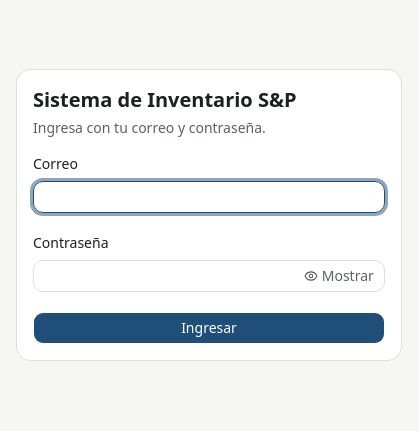
Iniciar sesión › CREDENCIALES_INVALIDAS muestra un único mensaje que no revela si el correo existe
The width and height of the screenshot is (419, 431).
Type "contadora.demo@syp.invalid" into the field labelled "Correo". click: {"x": 209, "y": 197}
box: top-left (33, 181), bottom-right (385, 213)
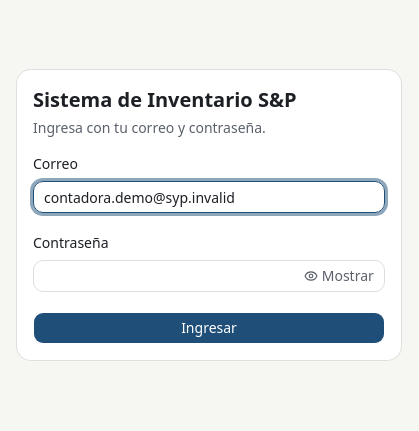
Type "incorrecta" into the password field labelled "Contraseña". click: {"x": 165, "y": 276}
box: top-left (34, 260), bottom-right (297, 292)
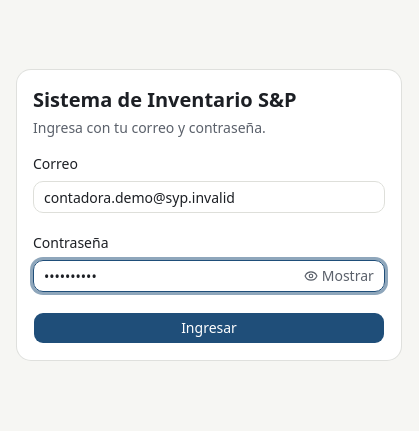
Click the button "Ingresar". click: {"x": 209, "y": 328}
box: top-left (33, 312), bottom-right (385, 344)
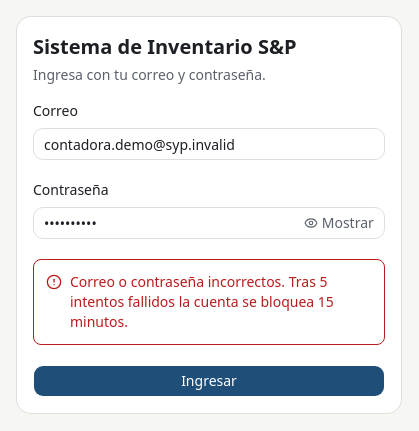
Expected: the message shows "Correo o contraseña incorrectos. Tras 5 intentos fallidos la cuenta se bloquea 15 minutos.", top-left (70, 272), bottom-right (334, 331)
